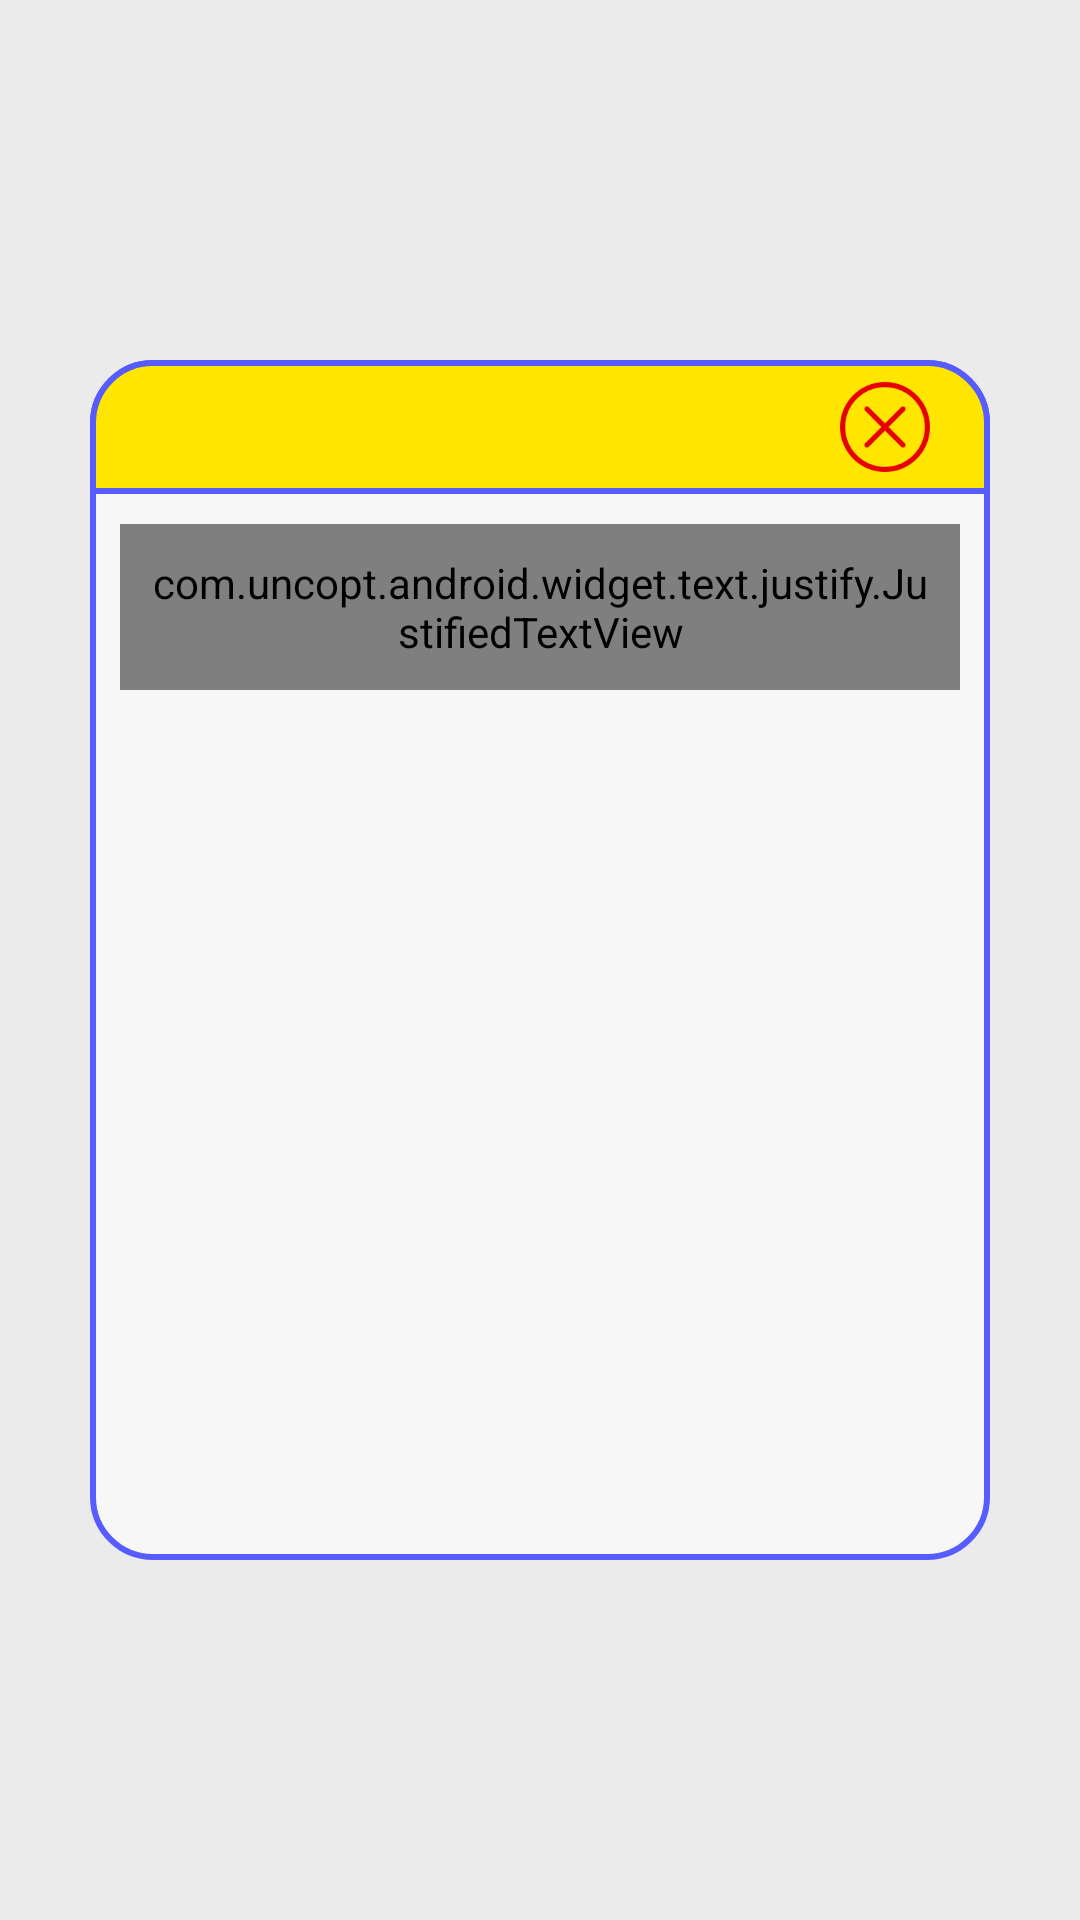

Named icons in this screenshot (1080*1920) and their bounding boxes, {"left": x1, "top": y1, "right": x2, "bottom": y2}:
error: {"left": 840, "top": 382, "right": 930, "bottom": 472}
